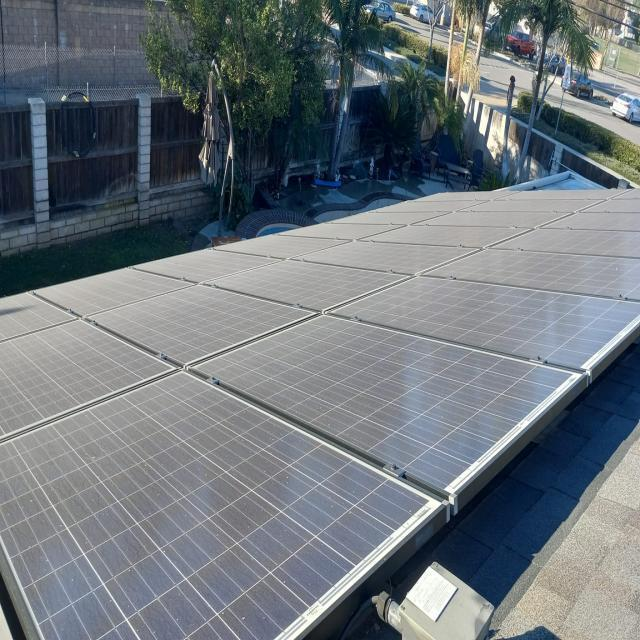Anomaly Solar Panel: (0, 188, 639, 639)
Surface Contaminant: (0, 188, 639, 639)
